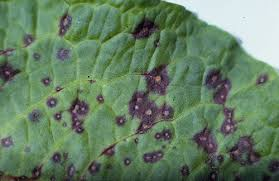Diseased_Leaves: (1, 60, 82, 94), (121, 92, 168, 136), (58, 96, 97, 140), (206, 71, 235, 116), (124, 14, 160, 45), (192, 127, 223, 159), (147, 67, 175, 97), (52, 151, 80, 178), (51, 14, 74, 36)
